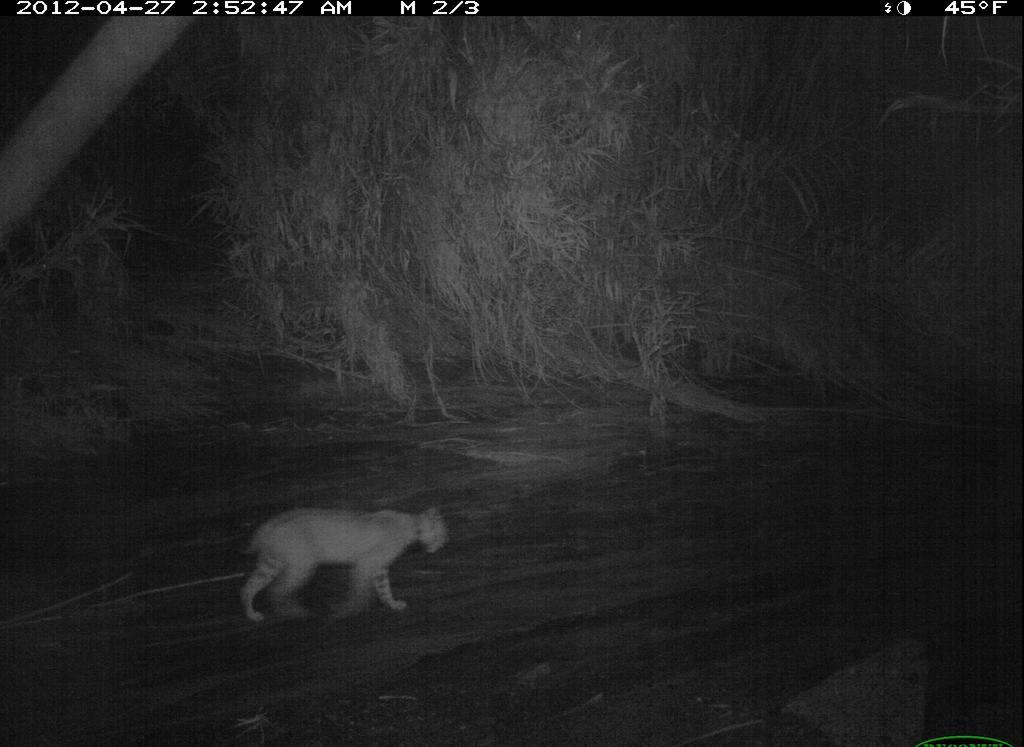bobcat: (216, 488, 470, 634)
